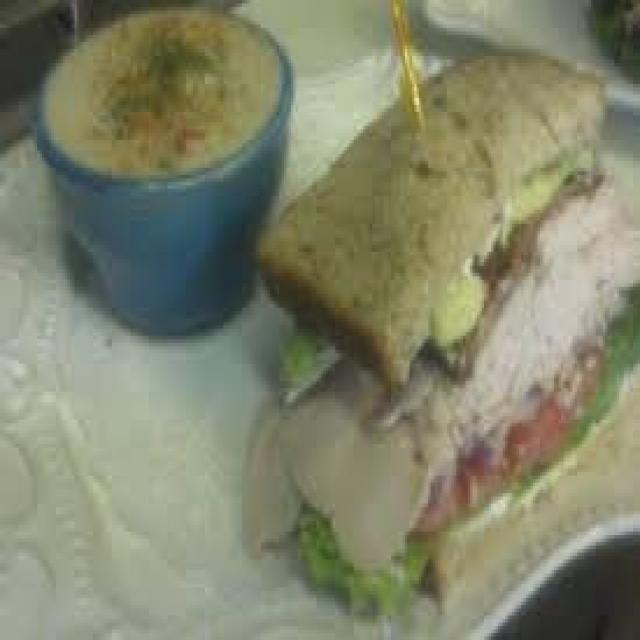Sandwich: (256, 46, 633, 636)
